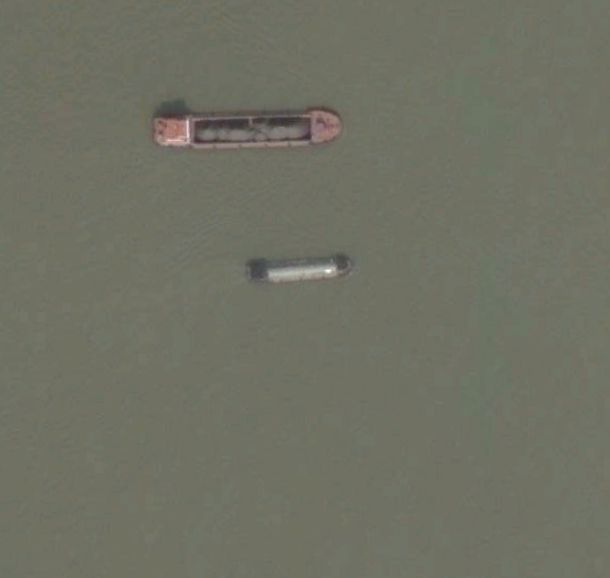boat: (149, 106, 345, 155), (240, 251, 355, 288)
